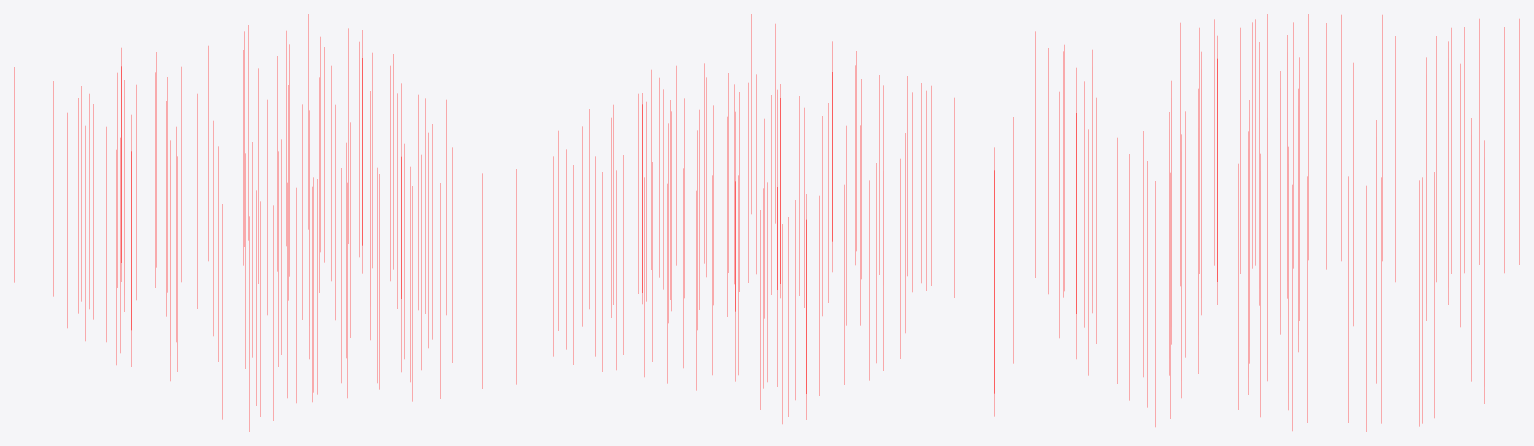
The model's file is stage_lightline_tate_red.glb.
3 views of the same model, side by side, from view 1: azimuth 30°, elevation 25°; view 2: azimuth 150°, elevation 25°; view 3: azimuth 270°, elevation 25° (orthographic). The views are drawn at different scales.
Bounding box in the file's own units: 59.75 × 40 × 77.38.
